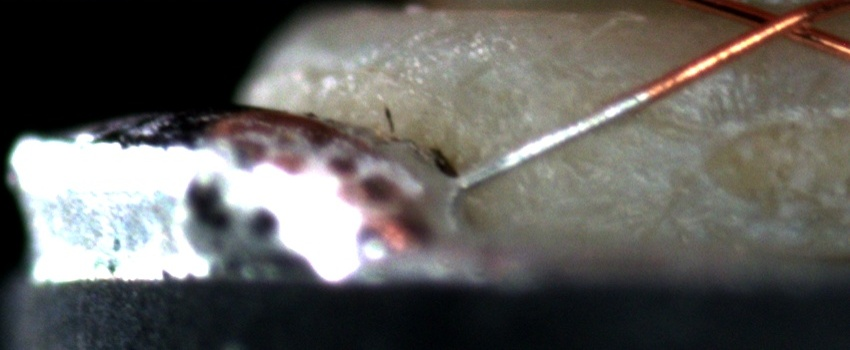CL: (725, 2, 832, 48)
DL: (614, 87, 850, 151)
TS: (461, 89, 651, 192)
